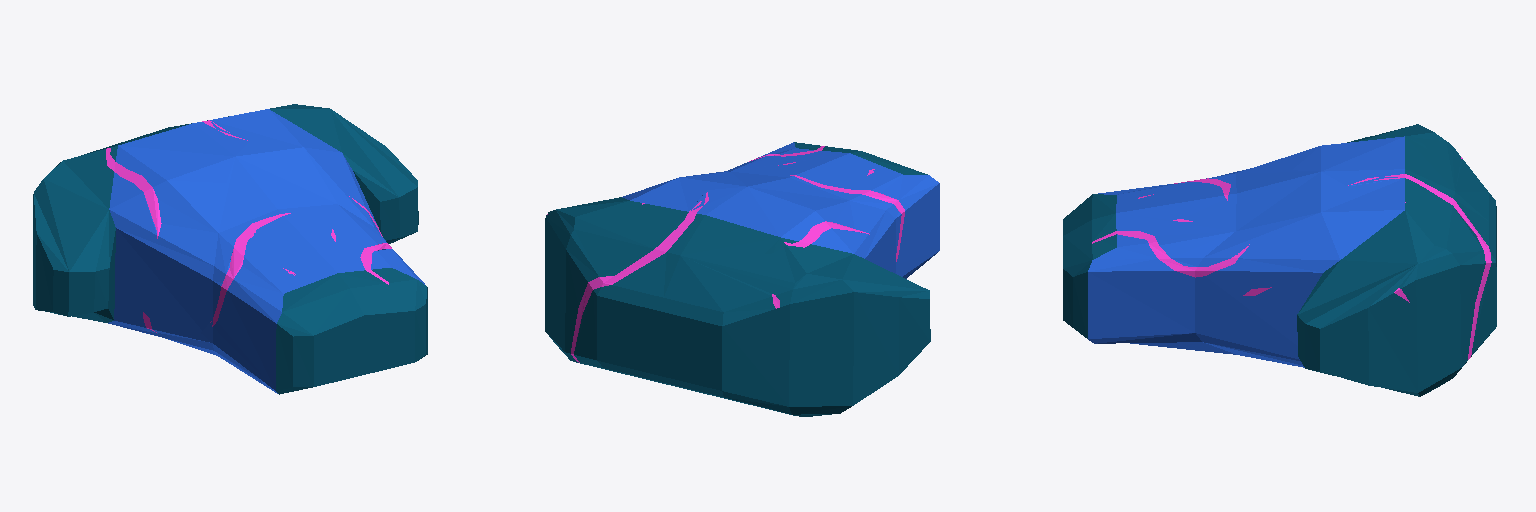
File: FaeArmour.obj
3 renders of one model, left to right at view 1: azimuth 30°, elevation 25°; view 2: azimuth 150°, elevation 25°; view 3: azimuth 270°, elevation 25°, orthographic.
Visible parts, largest first — view 1: FaeArmour; view 2: FaeArmour; view 3: FaeArmour.
Part boxes in pixels (x1,y1,x2,y2): FaeArmour: (33,104,427,394); FaeArmour: (545,142,939,416); FaeArmour: (1063,124,1496,396).
Bounding box in the file's own units: 1.01 × 0.4581 × 1.04.